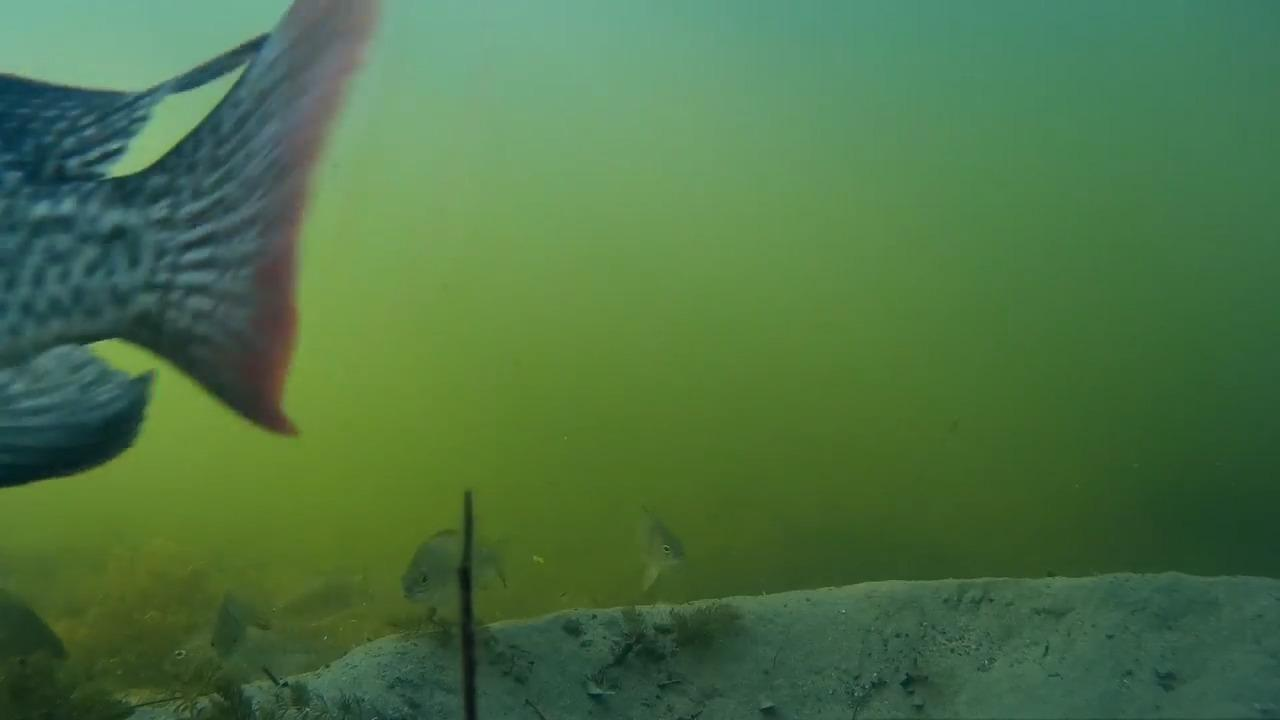Tilapia: (378, 516, 539, 608), (598, 484, 703, 592), (271, 558, 370, 630)
